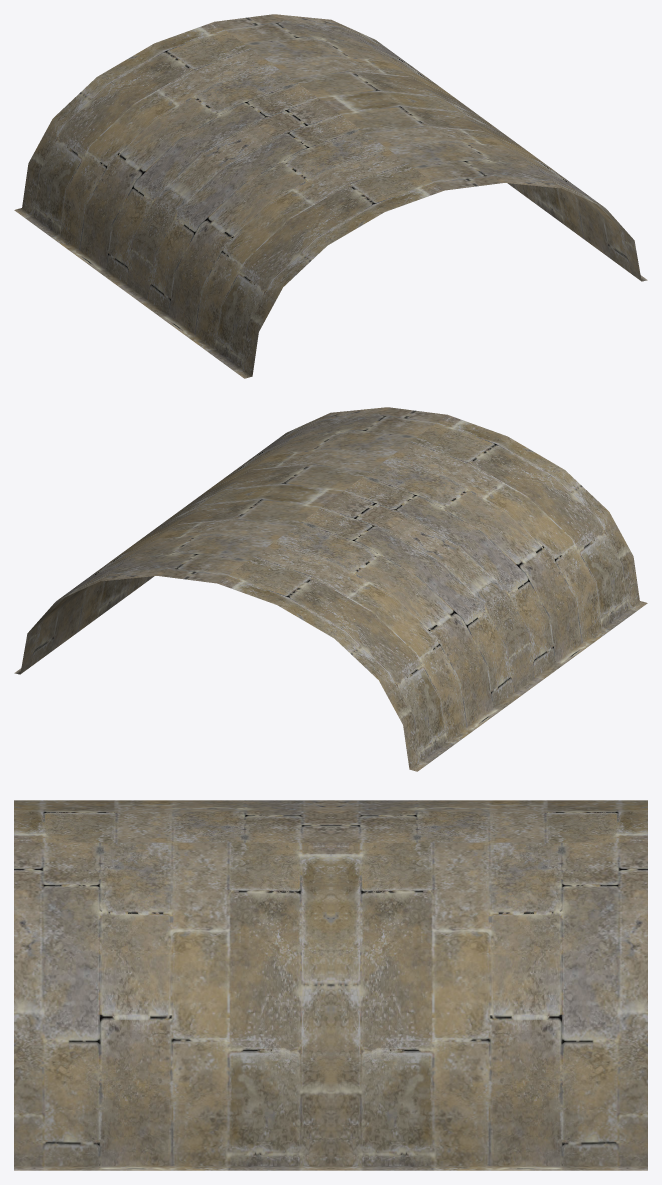
Rendered from cellar_celing.fbx.
3 renders of one model, top to bottom at view 1: azimuth 30°, elevation 25°; view 2: azimuth 150°, elevation 25°; view 3: azimuth 270°, elevation 25°, orthographic. The views are drawn at different scales.
Parts seen in each view (by area): view 1: cellar_arch7; view 2: cellar_arch7; view 3: cellar_arch7.
Boxes of the visible parts, bbox=[...] form: cellar_arch7: bbox=[14, 14, 647, 378]; cellar_arch7: bbox=[14, 407, 647, 771]; cellar_arch7: bbox=[14, 800, 647, 1170].
Size of the model in its own units: 606 by 200 by 600.
1 material, 1 textured.
